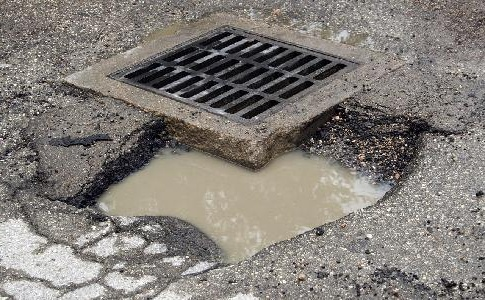pothole: (68, 98, 434, 265)
